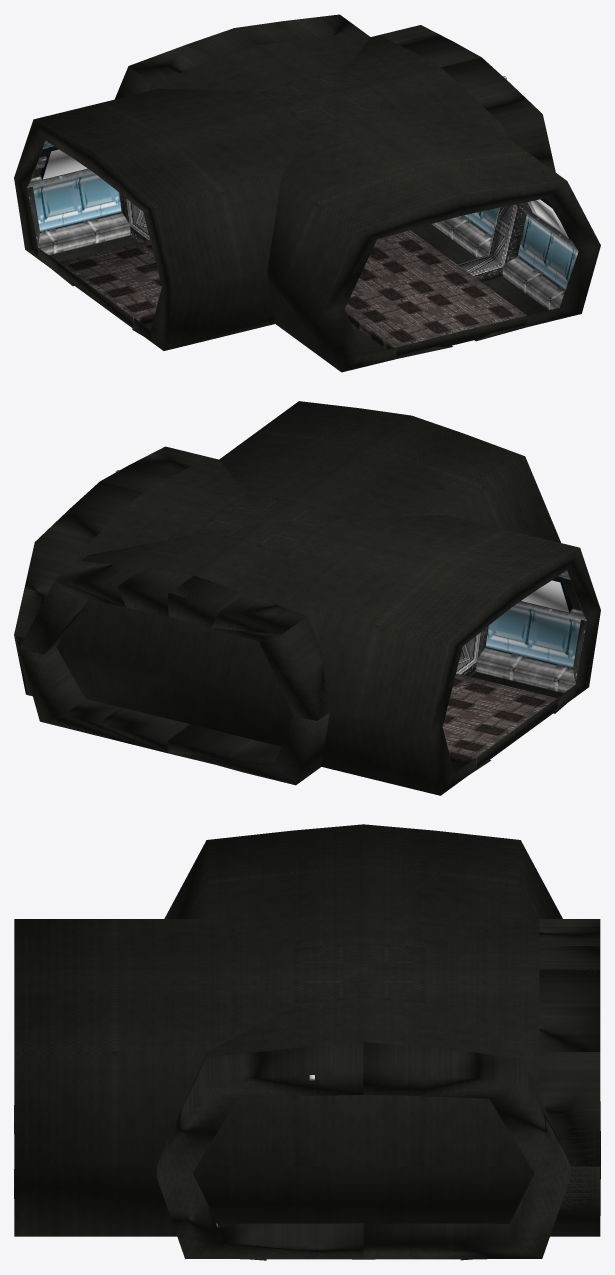
File: lWidecorridor.fbx
3 renders of one model, top to bottom at view 1: azimuth 30°, elevation 25°; view 2: azimuth 150°, elevation 25°; view 3: azimuth 270°, elevation 25°, orthographic. The views are drawn at different scales.
Visible parts, largest first — view 1: Mesh_002, Mesh, Mesh_021, Mesh_013, Mesh_010, Mesh_018; view 2: Mesh, Mesh_002, Mesh_021, Mesh_010, Mesh_018; view 3: Mesh_002, Mesh.
Part boxes in pixels (bbox=[...]): Mesh_002: bbox=[114, 14, 600, 372]; Mesh: bbox=[14, 25, 555, 350]; Mesh_021: bbox=[57, 230, 526, 356]; Mesh_013: bbox=[457, 202, 527, 282]; Mesh_010: bbox=[39, 146, 87, 180]; Mesh_018: bbox=[119, 193, 149, 242]; Mesh: bbox=[14, 446, 600, 795]; Mesh_002: bbox=[19, 401, 560, 785]; Mesh_021: bbox=[442, 673, 557, 767]; Mesh_010: bbox=[520, 576, 572, 613]; Mesh_018: bbox=[456, 626, 488, 676]; Mesh_002: bbox=[14, 919, 600, 1236]; Mesh: bbox=[156, 824, 570, 1260].
Size of the model in its own units: 254 by 95.53 by 256.
